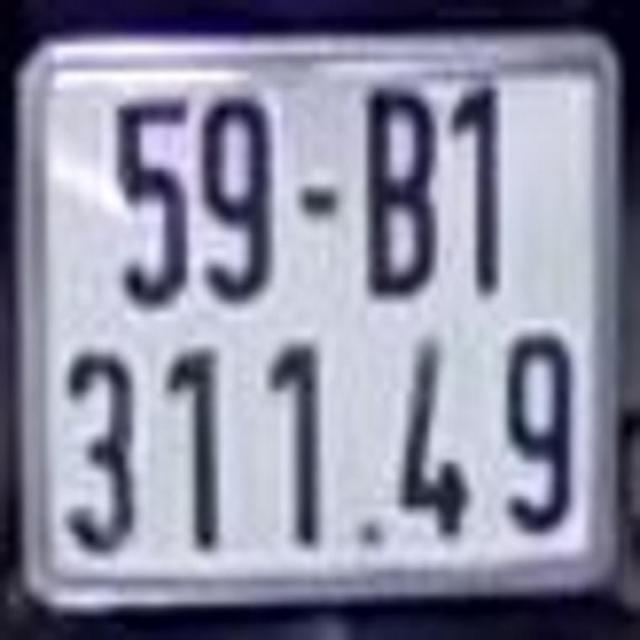1: (440, 48, 530, 307), (260, 318, 344, 550), (156, 328, 240, 546)
3: (52, 328, 143, 561)
4: (388, 312, 480, 543)
5: (92, 73, 193, 305)
9: (499, 305, 584, 546)
B: (351, 52, 445, 302)
